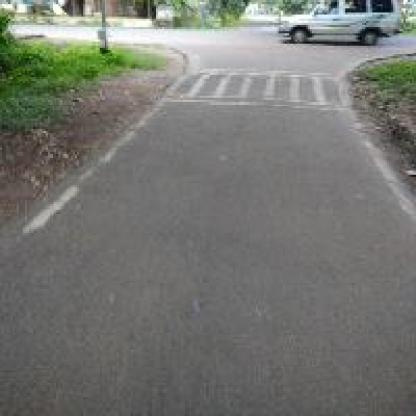Speed Bump: (152, 62, 356, 112)
